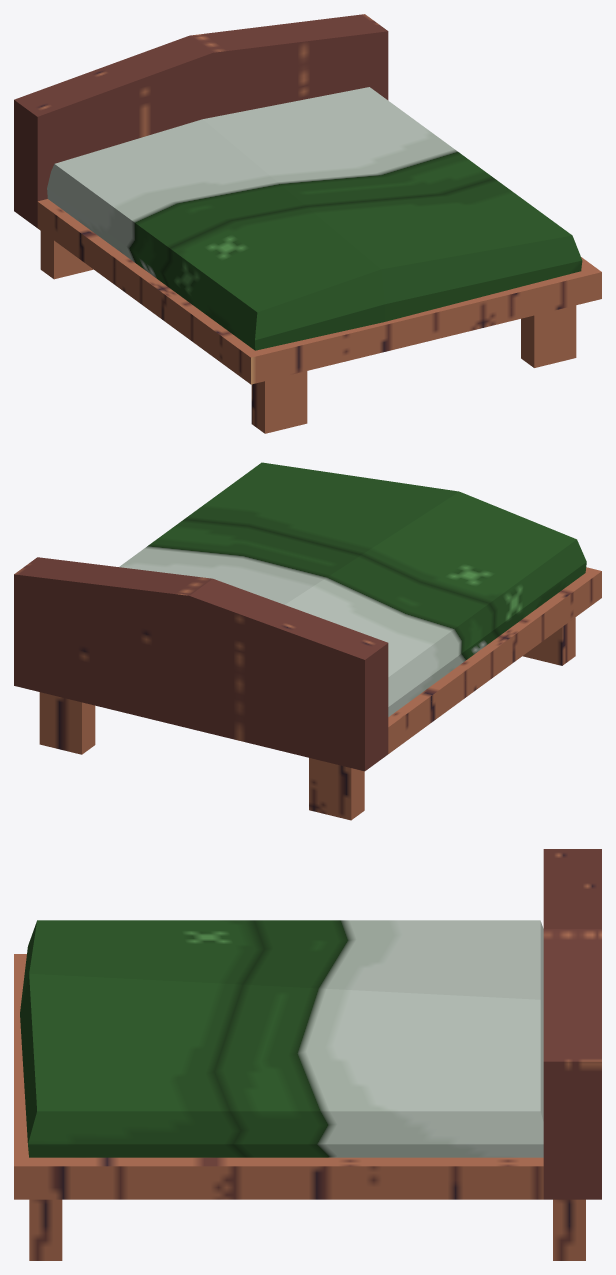
Rendered from CamaVerde.fbx.
3 renders of one model, top to bottom at view 1: azimuth 30°, elevation 25°; view 2: azimuth 150°, elevation 25°; view 3: azimuth 270°, elevation 25°, orthographic. The views are drawn at different scales.
Parts seen in each view (by area): view 1: CamaVerde; view 2: CamaVerde; view 3: CamaVerde.
Part boxes in pixels (x1,y1,x2,y2): CamaVerde: (14,14,601,433); CamaVerde: (14,462,601,820); CamaVerde: (14,849,601,1260).
Bounding box in the file's own units: 218 × 255 × 114.
